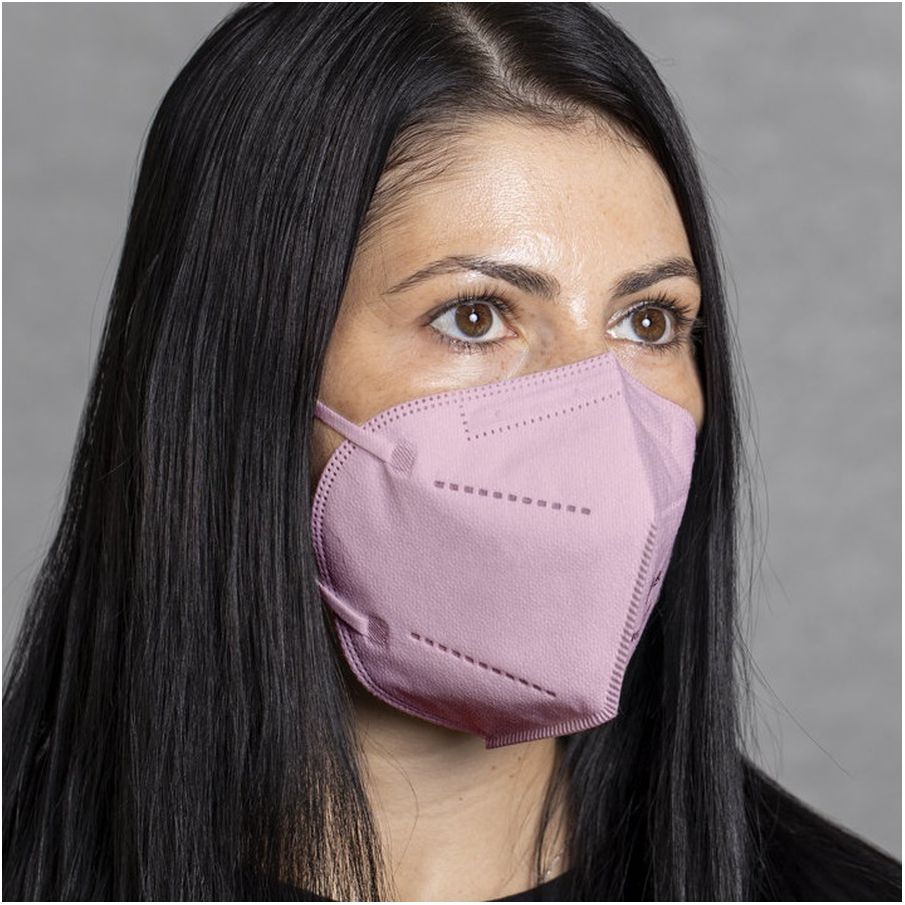with_mask: (318, 211, 682, 720)
